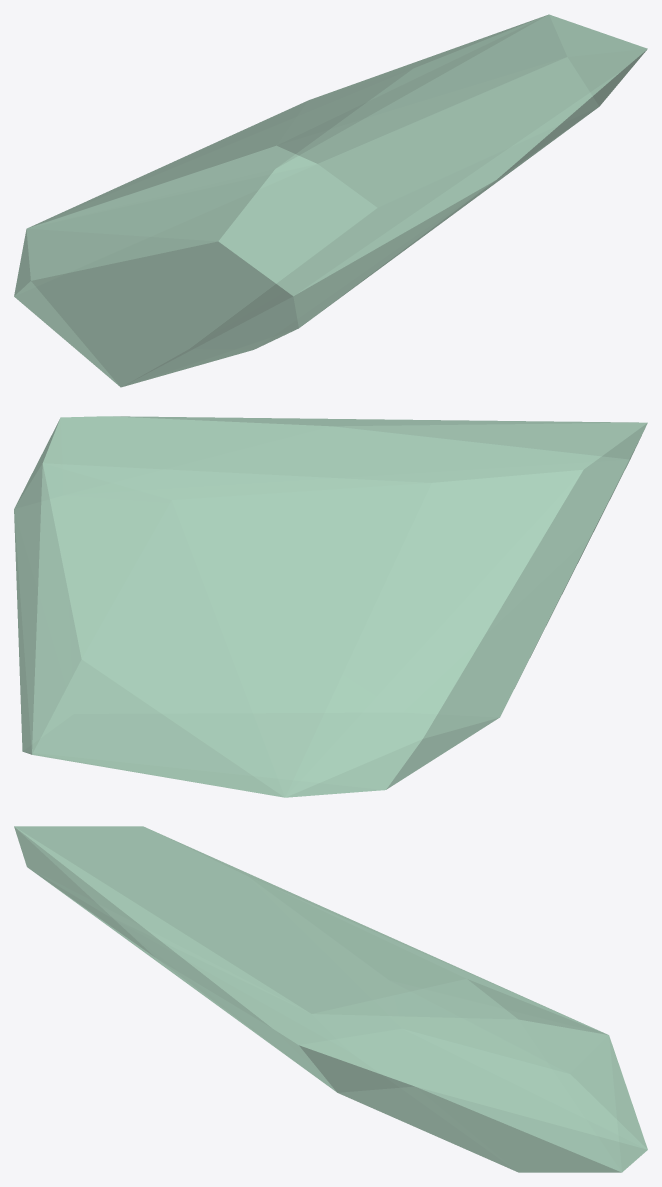
3 views of the same model, one above another, from view 1: azimuth 30°, elevation 25°; view 2: azimuth 150°, elevation 25°; view 3: azimuth 270°, elevation 25° (orthographic). The views are drawn at different scales.
Parts seen in each view (by area): view 1: Shape_IndexedFaceSet.018_Shape_IndexedFaceSet.5457; view 2: Shape_IndexedFaceSet.018_Shape_IndexedFaceSet.5457; view 3: Shape_IndexedFaceSet.018_Shape_IndexedFaceSet.5457.
Part boxes in pixels (<box>): Shape_IndexedFaceSet.018_Shape_IndexedFaceSet.5457: <box>14,14,647,387</box>; Shape_IndexedFaceSet.018_Shape_IndexedFaceSet.5457: <box>14,416,647,797</box>; Shape_IndexedFaceSet.018_Shape_IndexedFaceSet.5457: <box>14,826,647,1172</box>.
Bounding box in the file's own units: 0.018 × 0.0072 × 0.0221.
